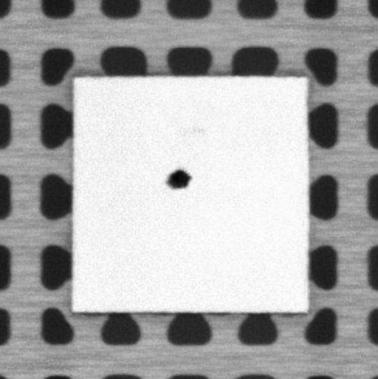DIE_INK: (165, 170, 193, 189)
